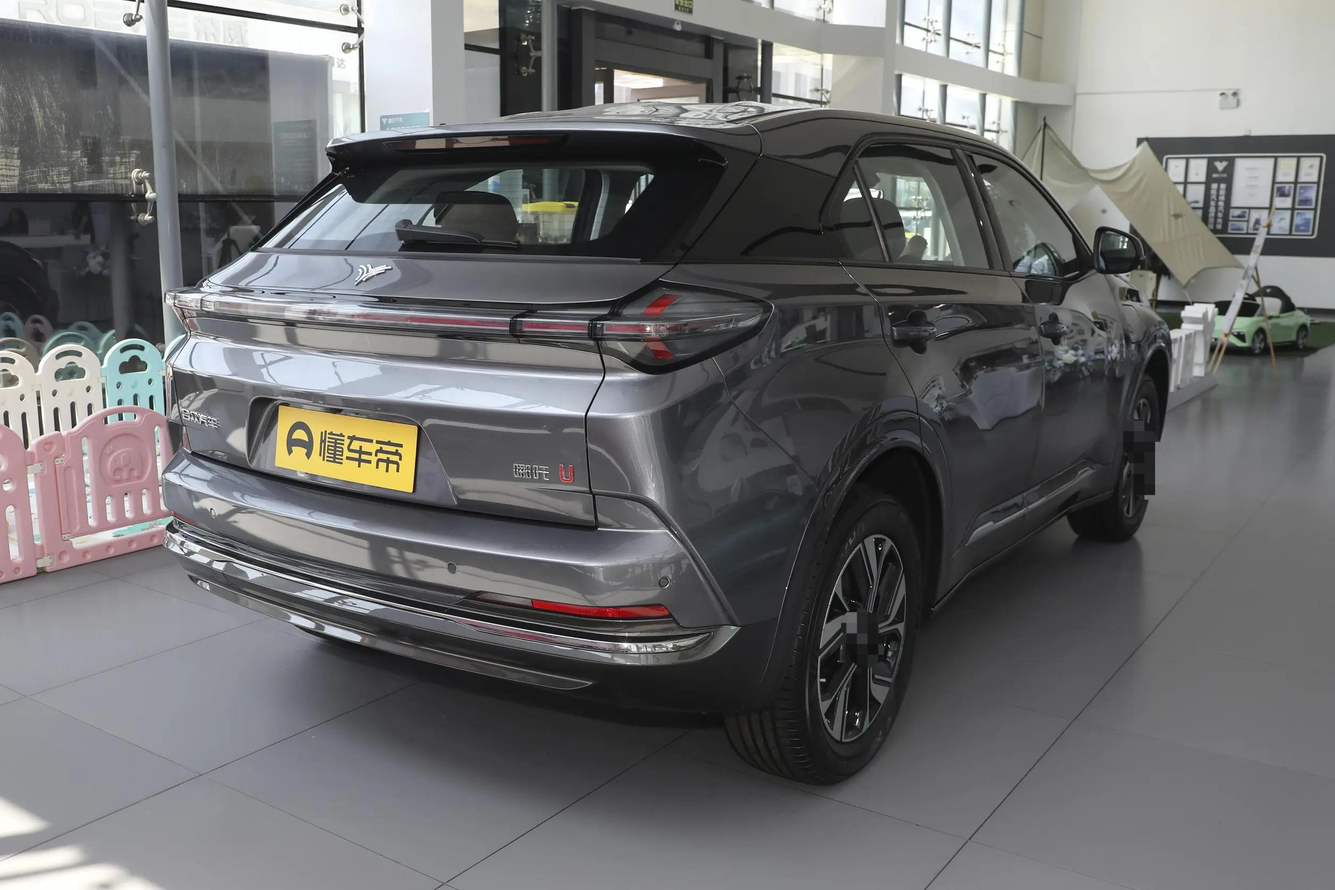NETA: (355, 263, 393, 286)
